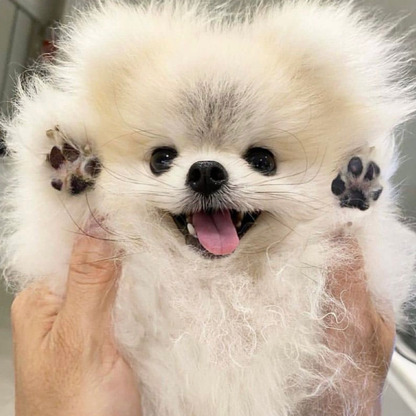Pomeranian: (39, 8, 399, 344)
